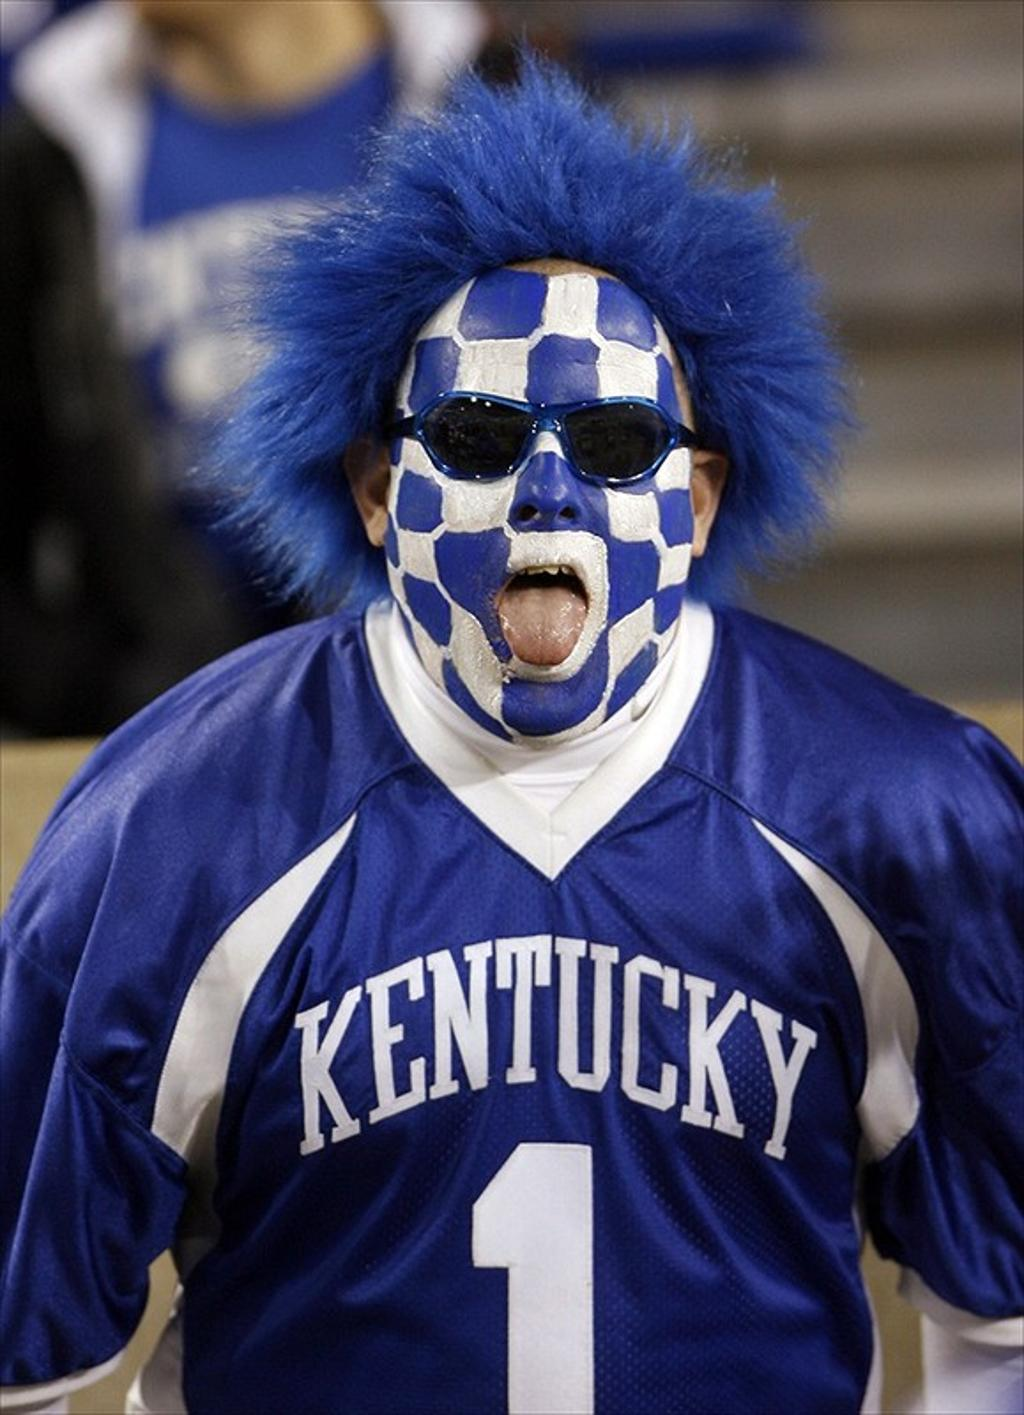face: (392, 259, 696, 748)
